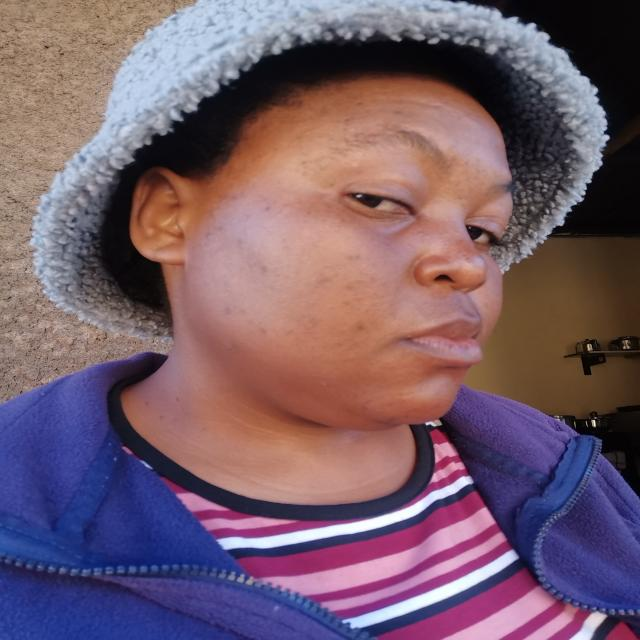Acne: (452, 156, 488, 203), (293, 265, 341, 298), (337, 293, 388, 315), (334, 95, 370, 126), (278, 314, 325, 334), (339, 276, 387, 290), (196, 221, 229, 240), (216, 303, 247, 321), (247, 318, 274, 336), (214, 190, 248, 202), (249, 120, 273, 134), (348, 321, 368, 337), (455, 248, 474, 263), (380, 415, 406, 425), (343, 252, 363, 264), (256, 203, 274, 215), (256, 265, 273, 277), (387, 105, 407, 115), (480, 301, 492, 314), (236, 235, 246, 246)
